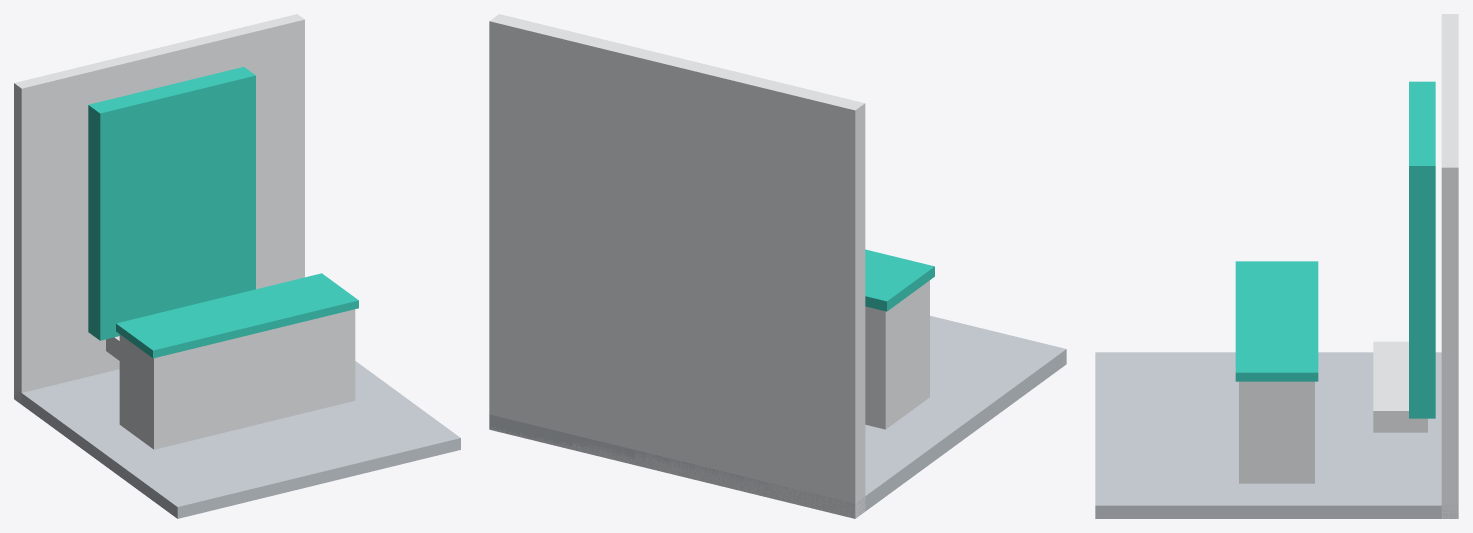
3 renders of one model, left to right at view 1: azimuth 30°, elevation 25°; view 2: azimuth 150°, elevation 25°; view 3: azimuth 270°, elevation 25°, orthographic. The views are drawn at different scales.
Visible parts, largest first — view 1: Exhibition Booth Concept; view 2: Exhibition Booth Concept; view 3: Exhibition Booth Concept.
Boxes of the visible parts, bbox=[...] form: Exhibition Booth Concept: bbox=[14, 14, 460, 518]; Exhibition Booth Concept: bbox=[489, 14, 1066, 518]; Exhibition Booth Concept: bbox=[1095, 14, 1458, 518].
Bounding box in the file's own units: 3 × 3.2 × 3.
